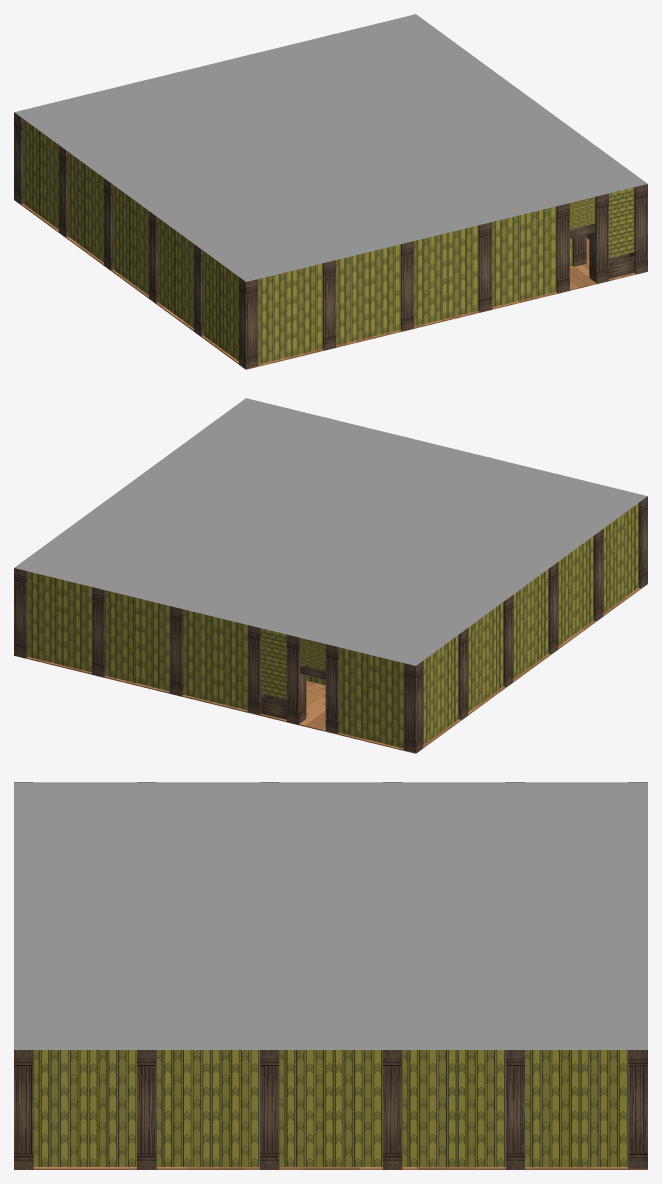
The model's file is modular labyrinth.fbx.
3 views of the same model, one above another, from view 1: azimuth 30°, elevation 25°; view 2: azimuth 150°, elevation 25°; view 3: azimuth 270°, elevation 25° (orthographic). The views are drawn at different scales.
Parts seen in each view (by area): view 1: Plane, Cube.127, Cube.131, Cube.133, Cube.129, Cube.084, Cube.090, Cube.088, Cube.093, Cube.095, Cube.125, wood planks.002 (+13 smaller); view 2: Plane, Cube.097, Cube.113, Cube.111, Cube.109, Cube.084, Cube.088, Cube.095, Cube.090, Cube.093, wood planks.002, Cube.138 (+13 smaller); view 3: Plane, Cube.115, Cube.117, Cube.119, Cube.121, Cube.123, Cube.116, Cube.114, Cube.118, Cube.120, Cube.122, Cube.112 (+1 smaller).
Part boxes in pixels (left/top/right/bottom): Plane: left=14, top=14, right=647, bottom=281; Cube.127: left=258, top=263, right=322, bottom=364; Cube.131: left=414, top=225, right=478, bottom=326; Cube.133: left=492, top=206, right=556, bottom=307; Cube.129: left=336, top=244, right=400, bottom=345; Cube.084: left=110, top=182, right=152, bottom=294; Cube.090: left=23, top=119, right=58, bottom=229; Cube.088: left=68, top=152, right=103, bottom=262; Cube.093: left=158, top=218, right=198, bottom=327; Cube.095: left=203, top=251, right=238, bottom=360; Cube.125: left=609, top=187, right=634, bottom=278; wood planks.002: left=21, top=203, right=635, bottom=369; Plane: left=14, top=398, right=647, bottom=665; Cube.097: left=339, top=647, right=403, bottom=748; Cube.113: left=27, top=571, right=91, bottom=672; Cube.111: left=105, top=590, right=169, bottom=691; Cube.109: left=183, top=609, right=247, bottom=710; Cube.084: left=509, top=566, right=551, bottom=679; Cube.088: left=463, top=602, right=503, bottom=711; Cube.095: left=603, top=503, right=638, bottom=613; Cube.090: left=423, top=635, right=458, bottom=744; Cube.093: left=558, top=536, right=593, bottom=646; wood planks.002: left=26, top=587, right=640, bottom=753; Cube.138: left=261, top=628, right=286, bottom=719; Plane: left=14, top=782, right=647, bottom=1049; Cube.115: left=525, top=1050, right=628, bottom=1167; Cube.117: left=402, top=1050, right=505, bottom=1167; Cube.119: left=279, top=1050, right=382, bottom=1167; Cube.121: left=156, top=1050, right=259, bottom=1167; Cube.123: left=33, top=1050, right=136, bottom=1167; Cube.116: left=382, top=1050, right=402, bottom=1169; Cube.114: left=505, top=1050, right=524, bottom=1169; Cube.118: left=260, top=1050, right=279, bottom=1169; Cube.120: left=137, top=1050, right=156, bottom=1169; Cube.122: left=14, top=1050, right=33, bottom=1169; Cube.112: left=628, top=1050, right=647, bottom=1168.
Size of the model in its own units: 25.62 by 5.35 by 25.62.
Materials: 5 (1 with a texture image).
